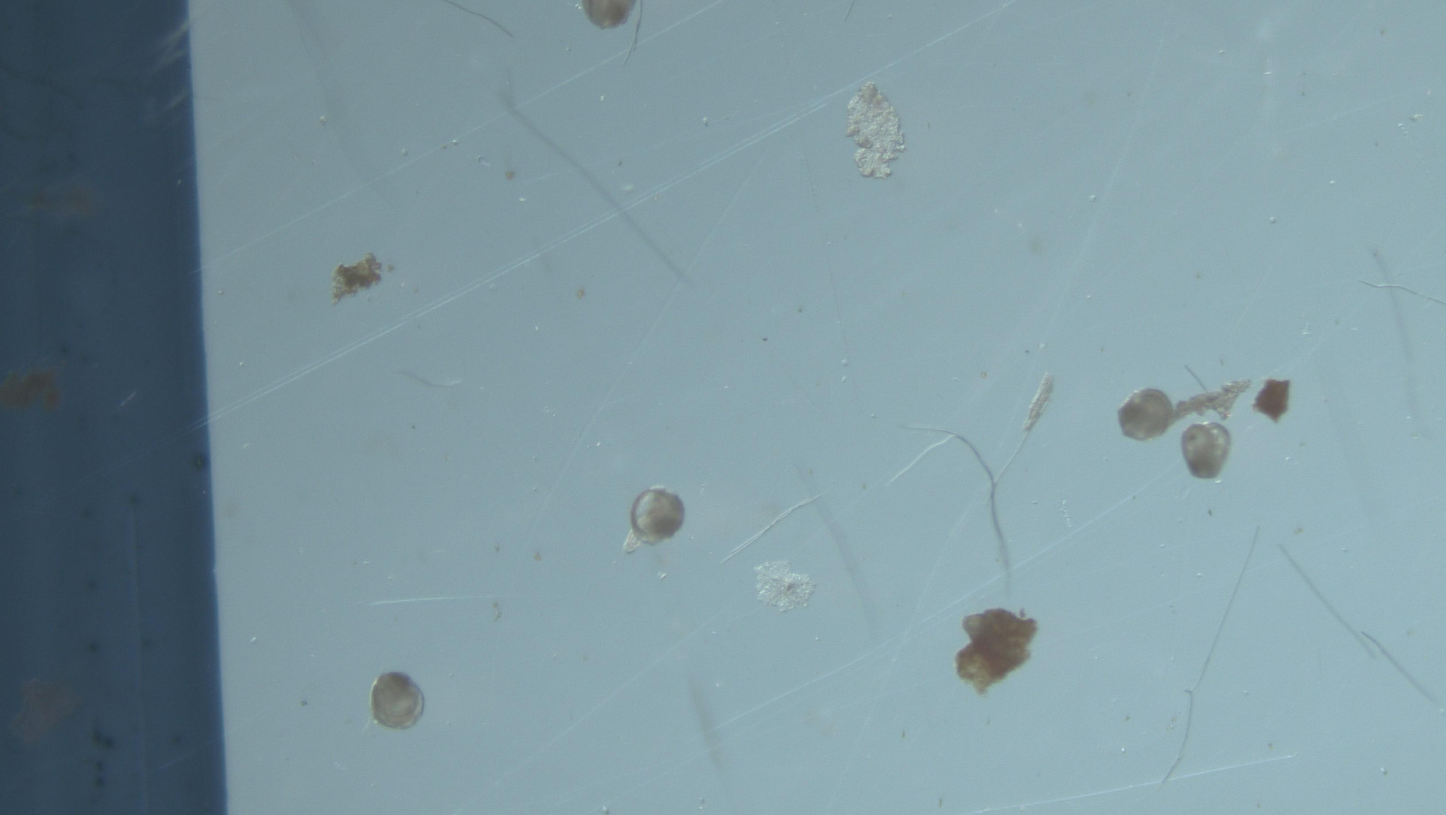live: (623, 488, 684, 554), (370, 672, 424, 730), (1119, 388, 1176, 441), (1182, 423, 1231, 480), (581, 0, 636, 29)
